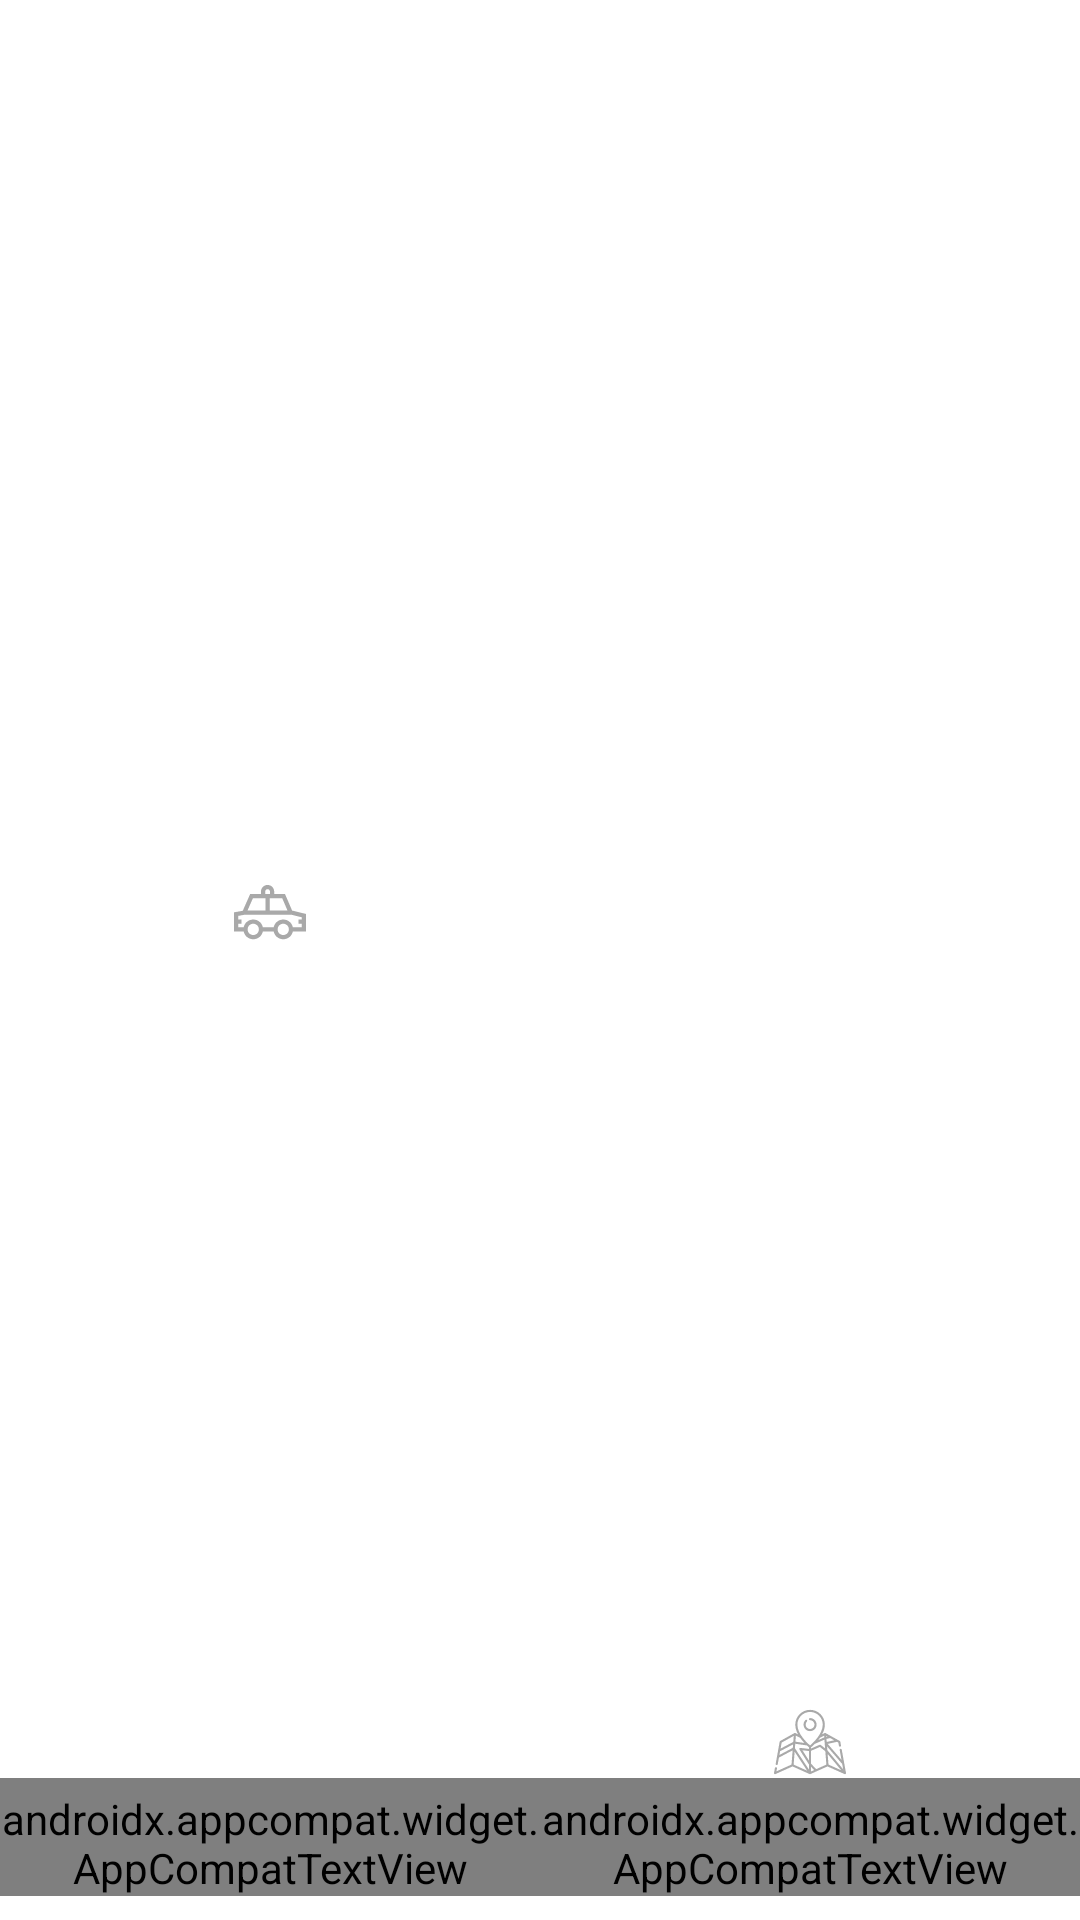

Icons on this 1080×1920 Android screen, each with the point to tap as (x,y):
map: (810,1742)
taxi: (270,912)
